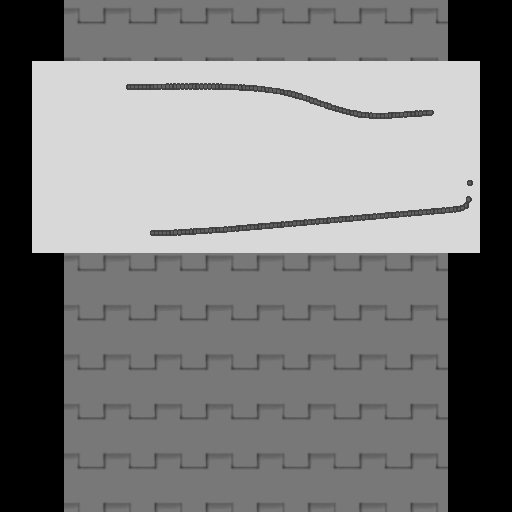Defect: (55, 75, 153, 239)
